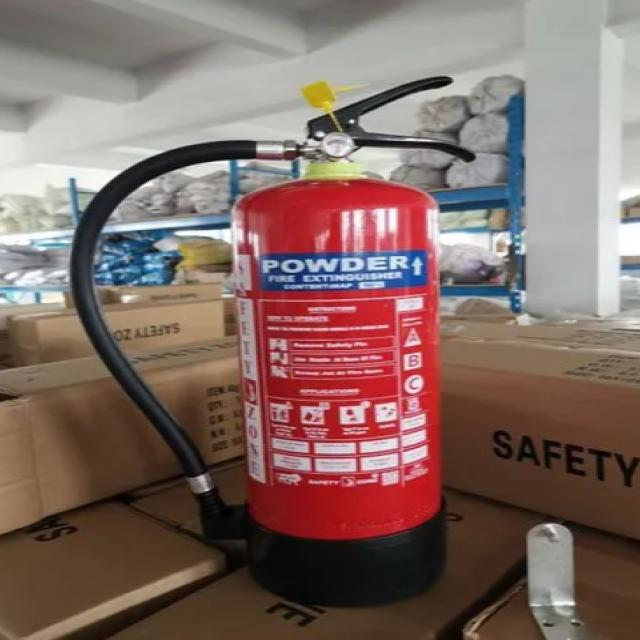extinguisher-helmet: (209, 110, 477, 609)
